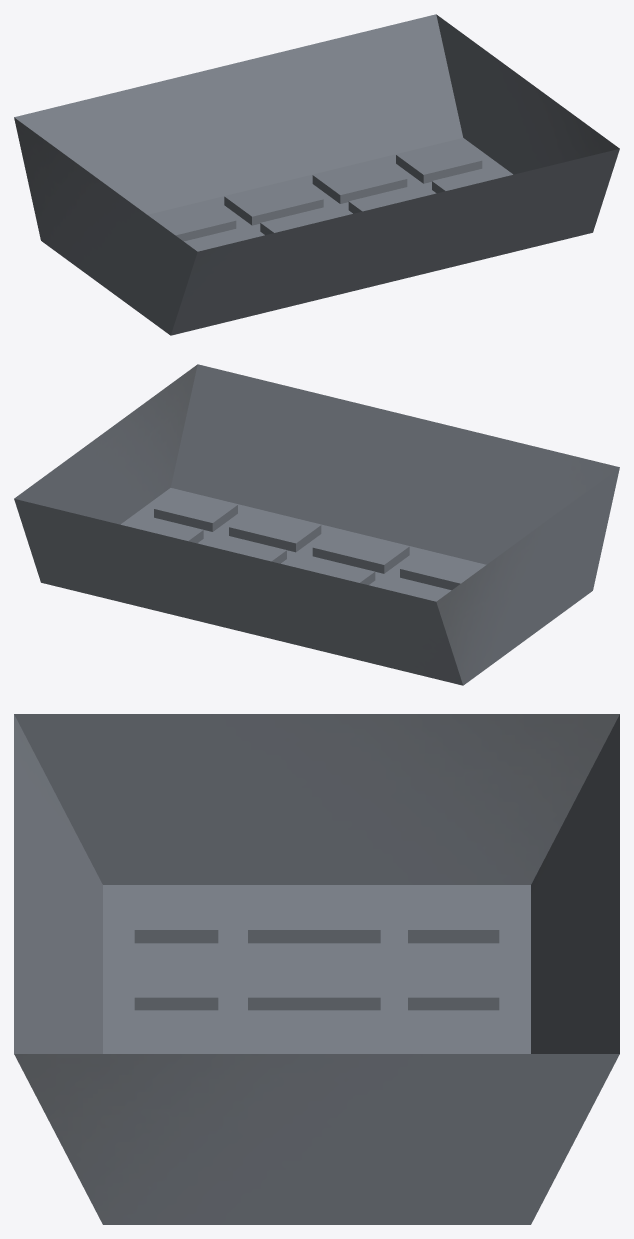
The model's file is Lamp (with bars).fbx.
3 renders of one model, top to bottom at view 1: azimuth 30°, elevation 25°; view 2: azimuth 150°, elevation 25°; view 3: azimuth 270°, elevation 25°, orthographic. The views are drawn at different scales.
Visible parts, largest first — view 1: pCube3; view 2: pCube3; view 3: pCube3.
Boxes of the visible parts, x1,y1,x2,y2 form: pCube3: (14, 14, 619, 335); pCube3: (14, 364, 619, 685); pCube3: (14, 714, 619, 1224).
Size of the model in its own units: 2.44 by 0.5726 by 1.84.
